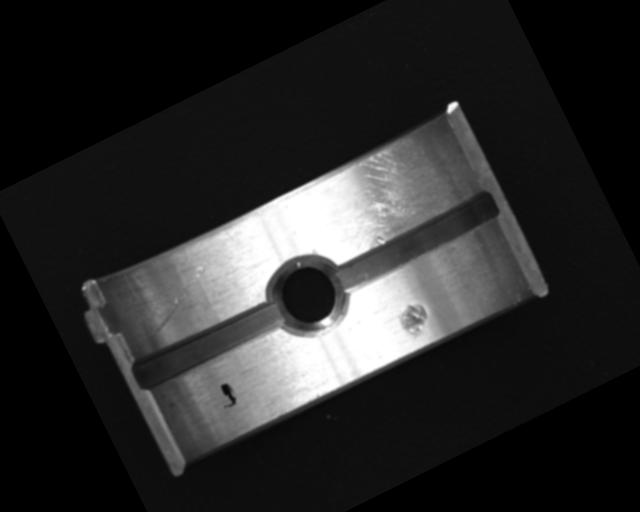blot: (213, 379, 240, 410)
bruise: (394, 298, 436, 344)
gap: (326, 185, 505, 298), (129, 295, 285, 395)
hole: (254, 244, 357, 349)
nick: (131, 263, 222, 339)
scratch: (292, 116, 477, 269)
